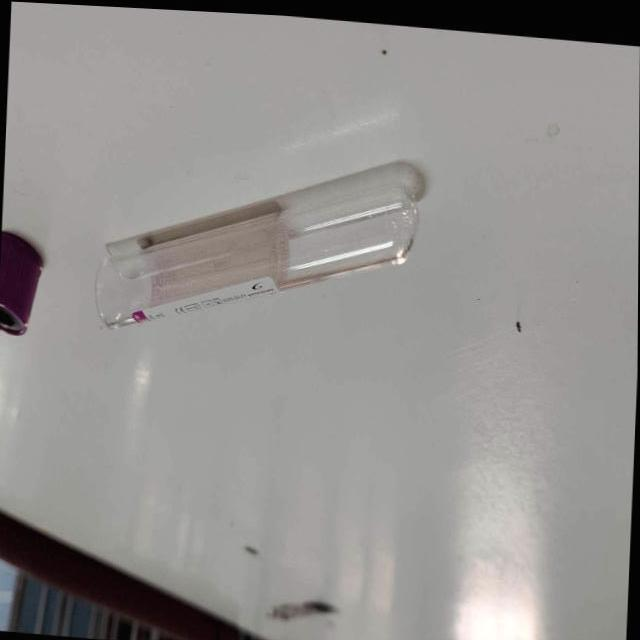Sharps: (92, 158, 425, 328)
